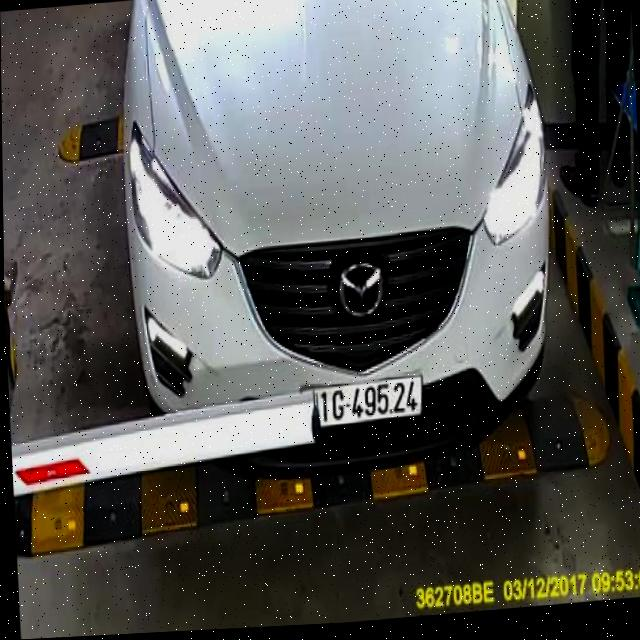car: (105, 0, 565, 488)
plate: (293, 369, 429, 436)
